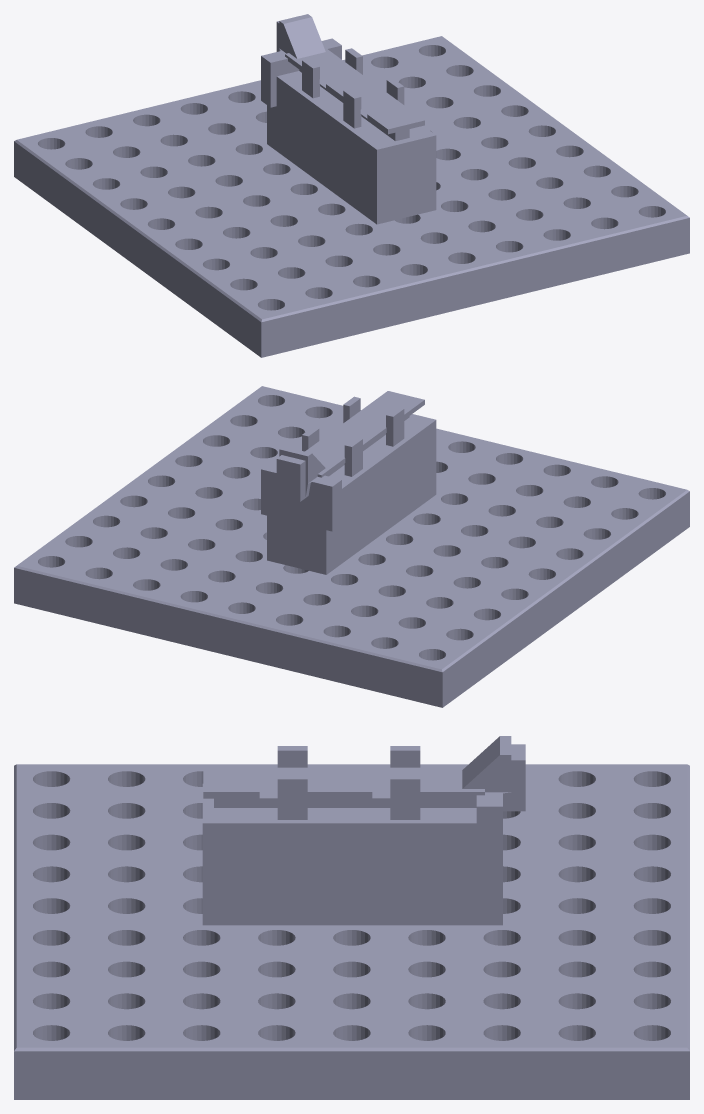
File: Pallet.glb
3 renders of one model, top to bottom at view 1: azimuth 30°, elevation 25°; view 2: azimuth 150°, elevation 25°; view 3: azimuth 270°, elevation 25°, orthographic. The views are drawn at different scales.
Visible parts, largest first — view 1: PiastraForata, Pallet_002, Pallet_008, Pallet_009, Pallet_007, Pallet_004; view 2: PiastraForata, Pallet_002, Pallet_008, Pallet_009, Pallet_006, Pallet_007, Pallet_004; view 3: PiastraForata, Pallet_002, Pallet_008, Pallet_009, Pallet_003, Pallet_005, Pallet_006, Pallet_004, Pallet_007.
Boxes of the visible parts, x1=… form: PiastraForata: x1=14, y1=36, x2=689, y2=357; Pallet_002: x1=267, y1=71, x2=436, y2=224; Pallet_008: x1=279, y1=14, x2=424, y2=134; Pallet_009: x1=261, y1=38, x2=409, y2=141; Pallet_007: x1=343, y1=89, x2=361, y2=128; Pallet_004: x1=302, y1=59, x2=319, y2=98; PiastraForata: x1=14, y1=386, x2=689, y2=707; Pallet_002: x1=267, y1=414, x2=436, y2=574; Pallet_008: x1=279, y1=391, x2=424, y2=496; Pallet_009: x1=261, y1=416, x2=409, y2=531; Pallet_006: x1=276, y1=455, x2=310, y2=501; Pallet_007: x1=386, y1=407, x2=404, y2=446; Pallet_004: x1=344, y1=437, x2=362, y2=476; PiastraForata: x1=14, y1=764, x2=689, y2=1099; Pallet_002: x1=202, y1=784, x2=502, y2=925; Pallet_008: x1=203, y1=736, x2=511, y2=798; Pallet_009: x1=214, y1=793, x2=502, y2=867; Pallet_003: x1=277, y1=775, x2=307, y2=819; Pallet_005: x1=390, y1=775, x2=420, y2=819; Pallet_006: x1=503, y1=744, x2=525, y2=811; Pallet_004: x1=390, y1=746, x2=420, y2=767; Pallet_007: x1=277, y1=746, x2=307, y2=767.
Bounding box in the file's own units: 0.18 × 0.0622 × 0.18.
